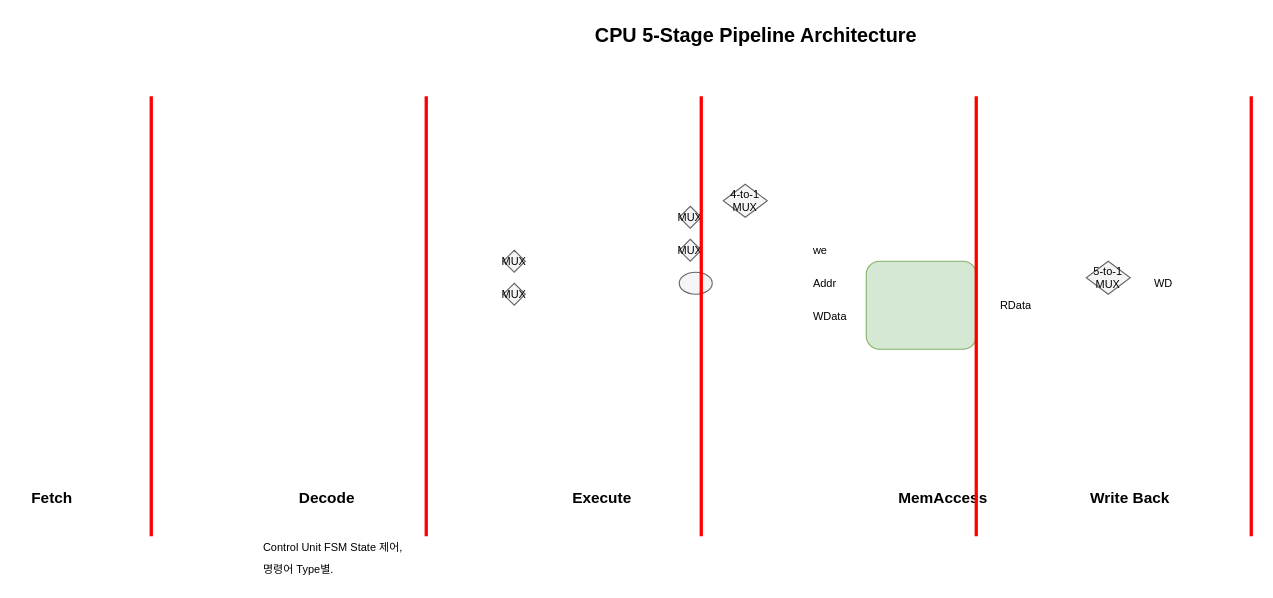
Image size: 1273x598. Some labels were removed from this diagram. Each missing label, with the centre of its shape:
AND: [695,282]
RAM: [920,304]
